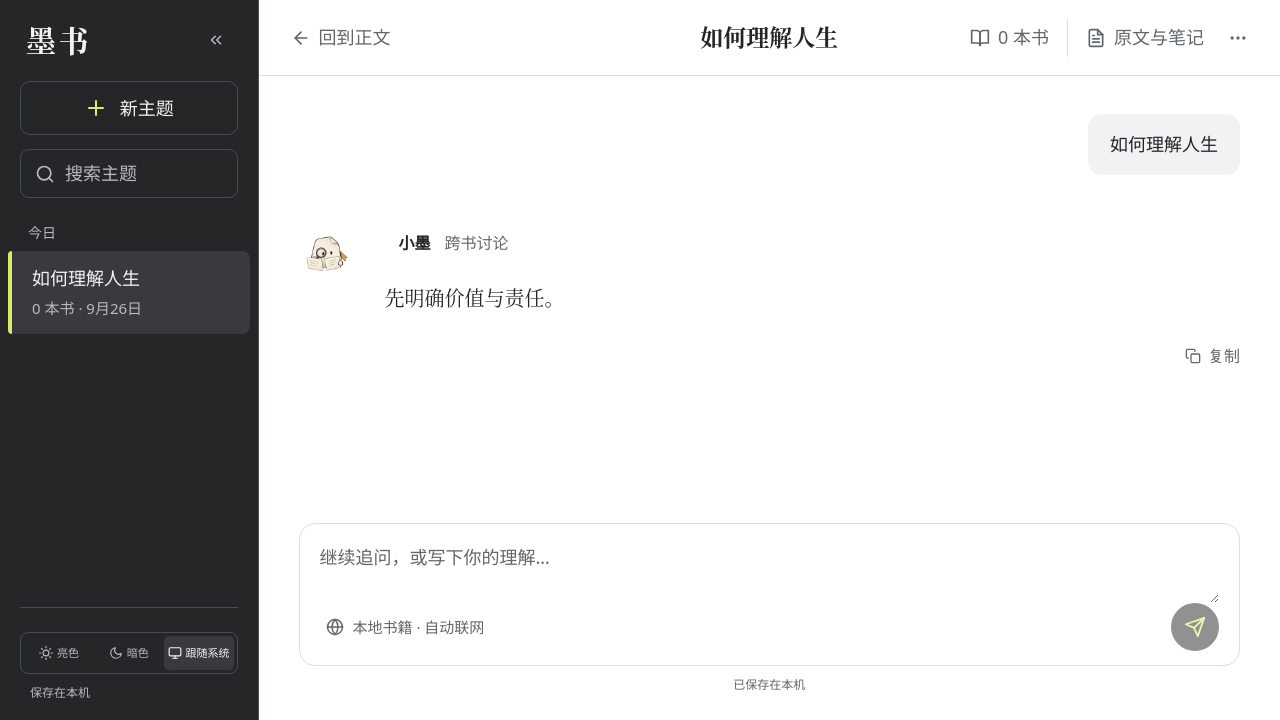
Test case: 主题会话本地可靠性 › keeps the current topic when archiving it fails before a new topic
Expected: the text box labelled "继续追问" is shown, [320,542,1219,603]
Click the button "新主题": (129, 108) [20,81,238,135]
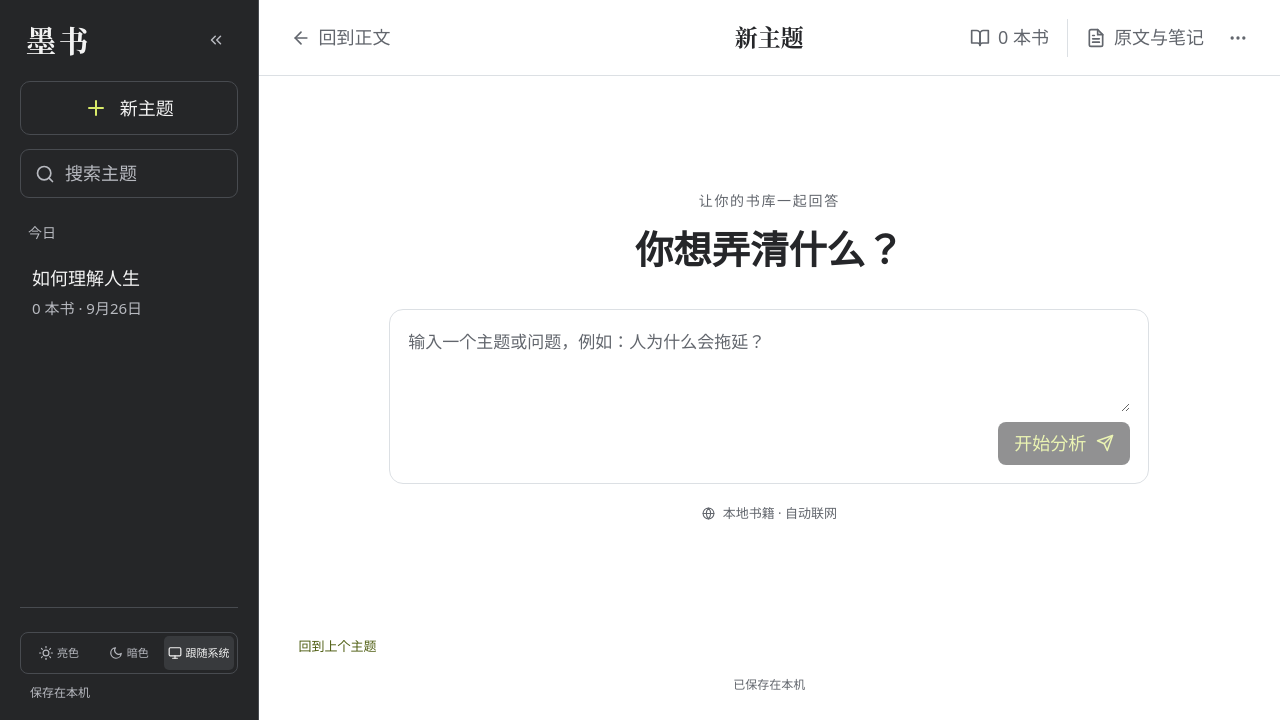
In the text box labelled "主题或问题": (769, 370) [408,328,1130,412], type "一个新问题"
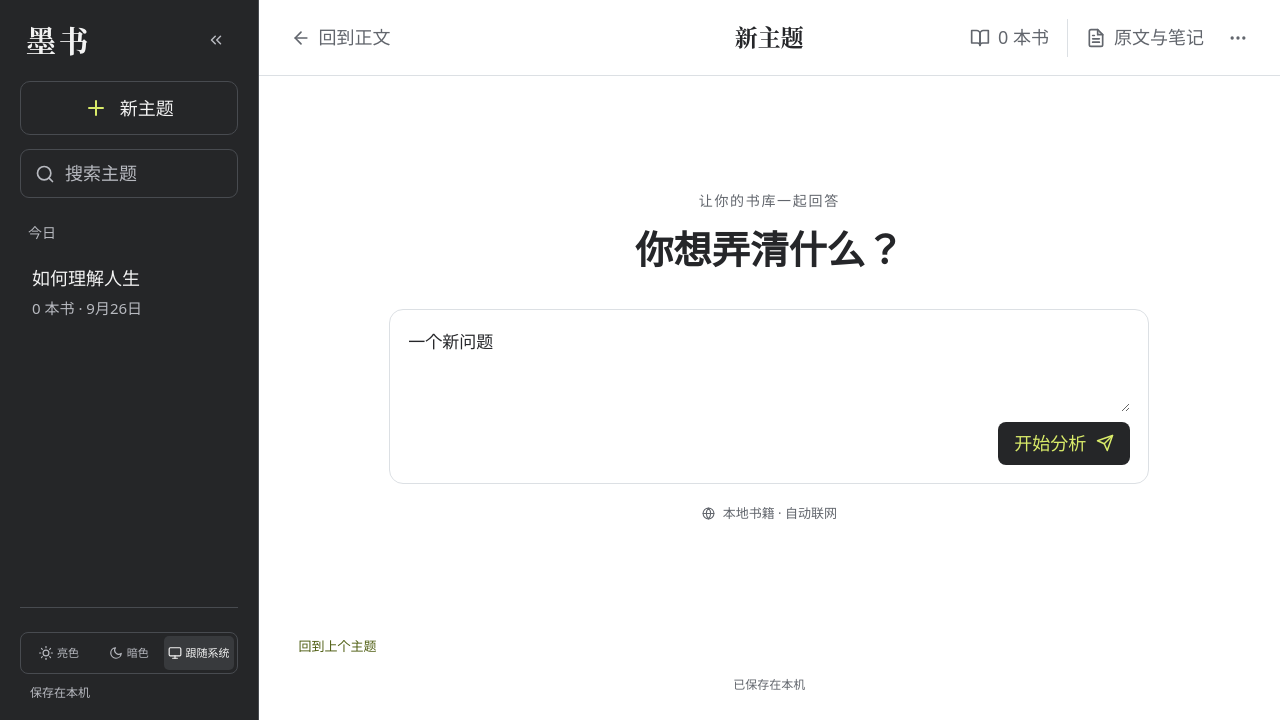
Submit the form named "主题或问题", box [389,309,1149,484]
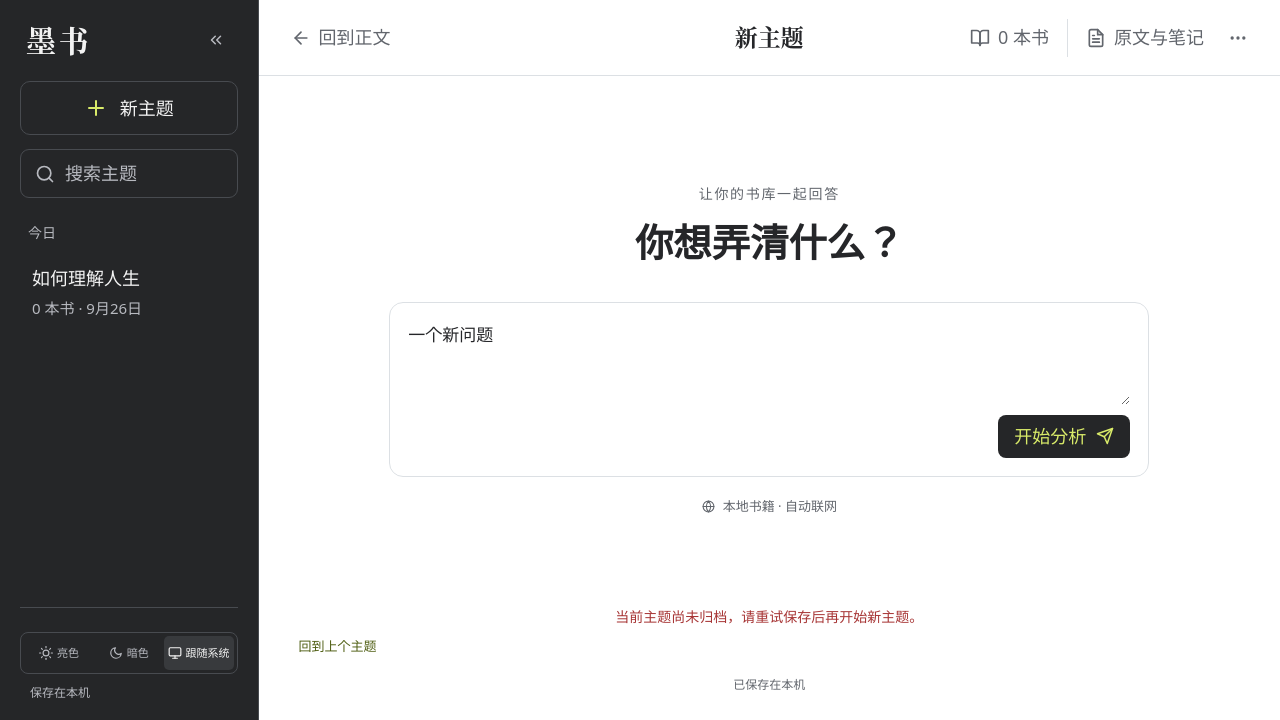
Expected: the text "当前主题尚未归档，请重试保存后再开始新主题。" is shown, [615,606,923,626]
Click the button "回到上个主题": (338, 646) [298,626,376,666]
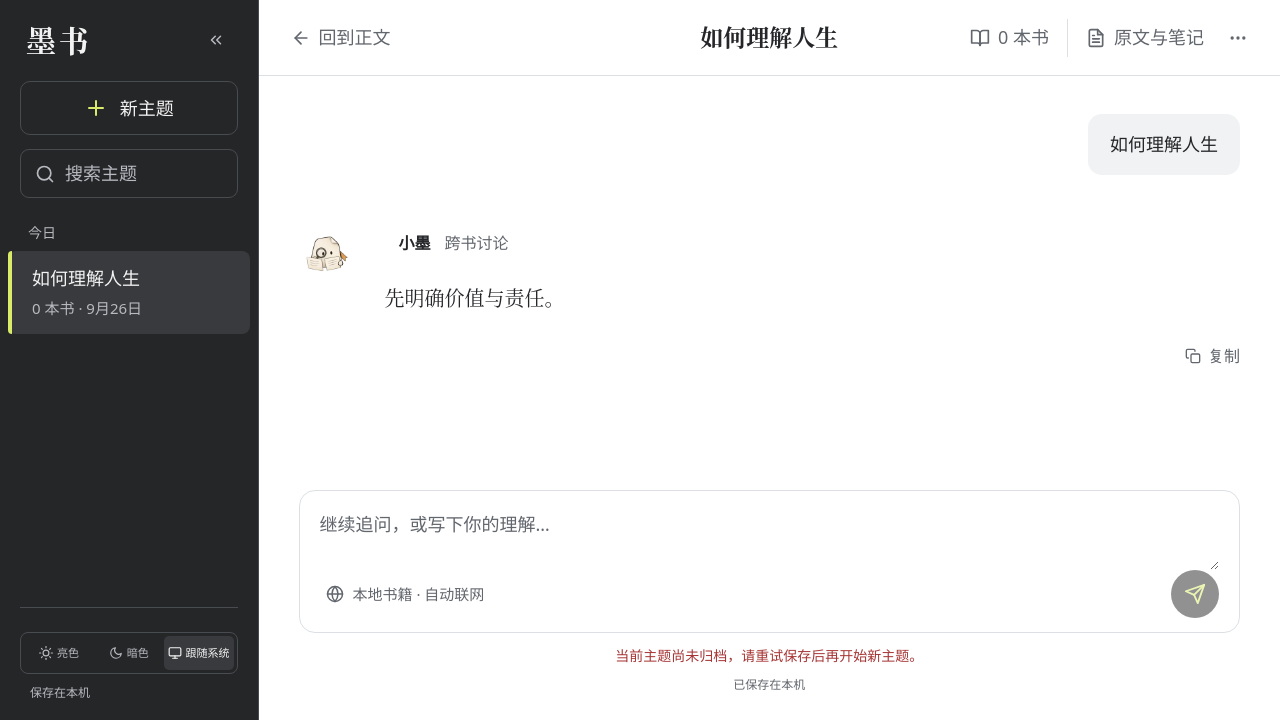
Expected: the text "一个新问题" is not shown
Expected: the text "先明确价值与责任。" is shown, [384,283,564,312]
